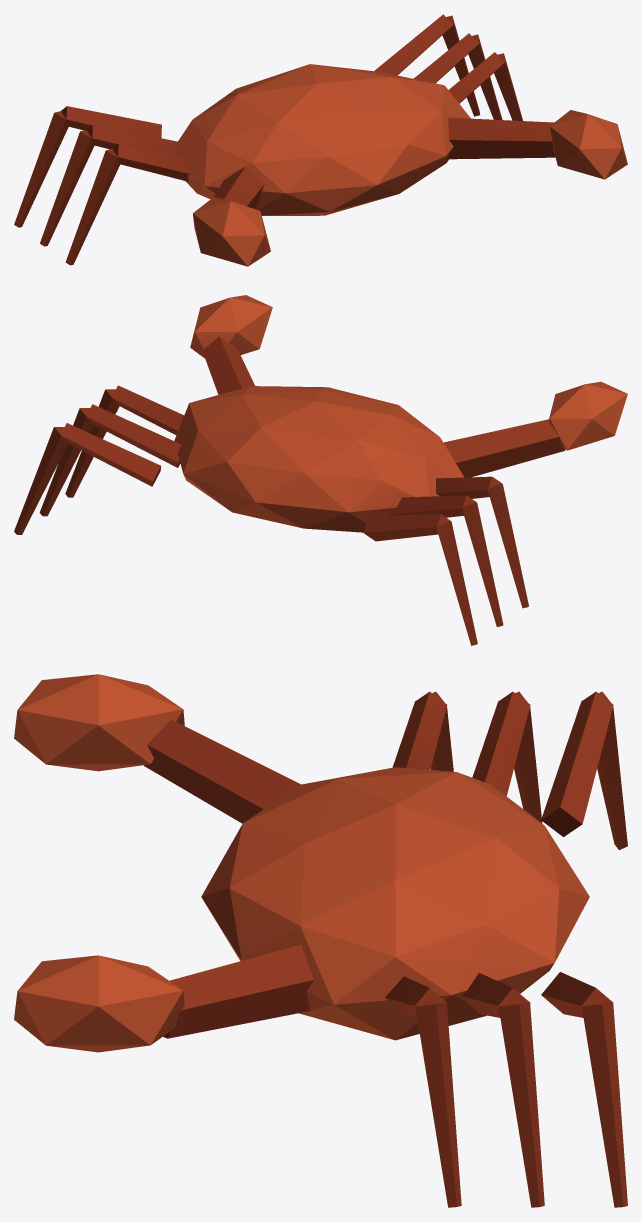
Rendered from Crab.fbx.
3 views of the same model, one above another, from view 1: azimuth 30°, elevation 25°; view 2: azimuth 150°, elevation 25°; view 3: azimuth 270°, elevation 25° (orthographic). The views are drawn at different scales.
Parts seen in each view (by area): view 1: Crab; view 2: Crab; view 3: Crab.
Boxes of the visible parts, x1=… form: Crab: x1=14, y1=14, x2=627, y2=266; Crab: x1=14, y1=295, x2=627, y2=645; Crab: x1=14, y1=674, x2=627, y2=1207.
Bounding box in the file's own units: 0.7306 × 0.208 × 0.5168.
